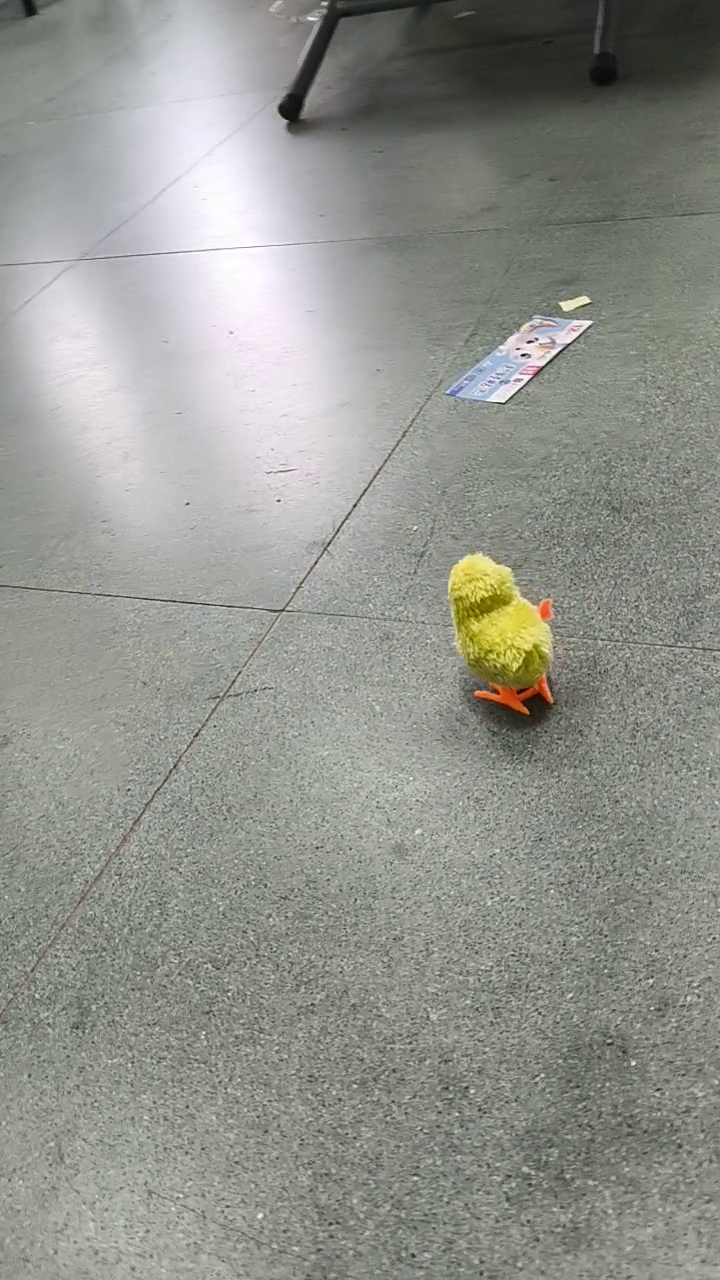yellow chicken: (441, 547, 563, 717)
